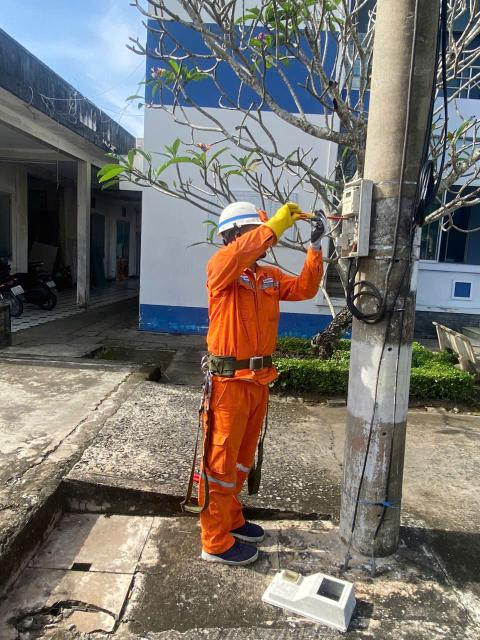gloves: (259, 203, 307, 240), (302, 202, 332, 250)
harness: (193, 337, 285, 391)
helmet: (208, 196, 278, 242)
shoes: (196, 531, 261, 564), (221, 504, 274, 543)
